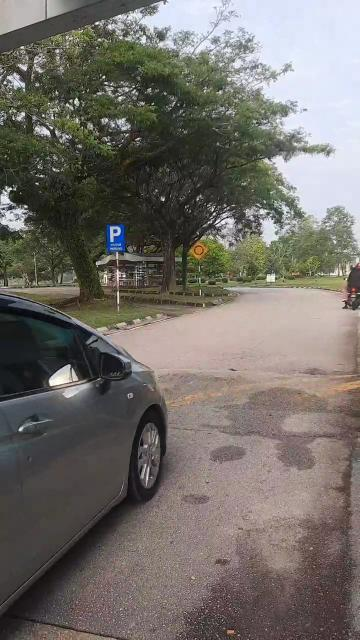car: (1, 276, 189, 626)
